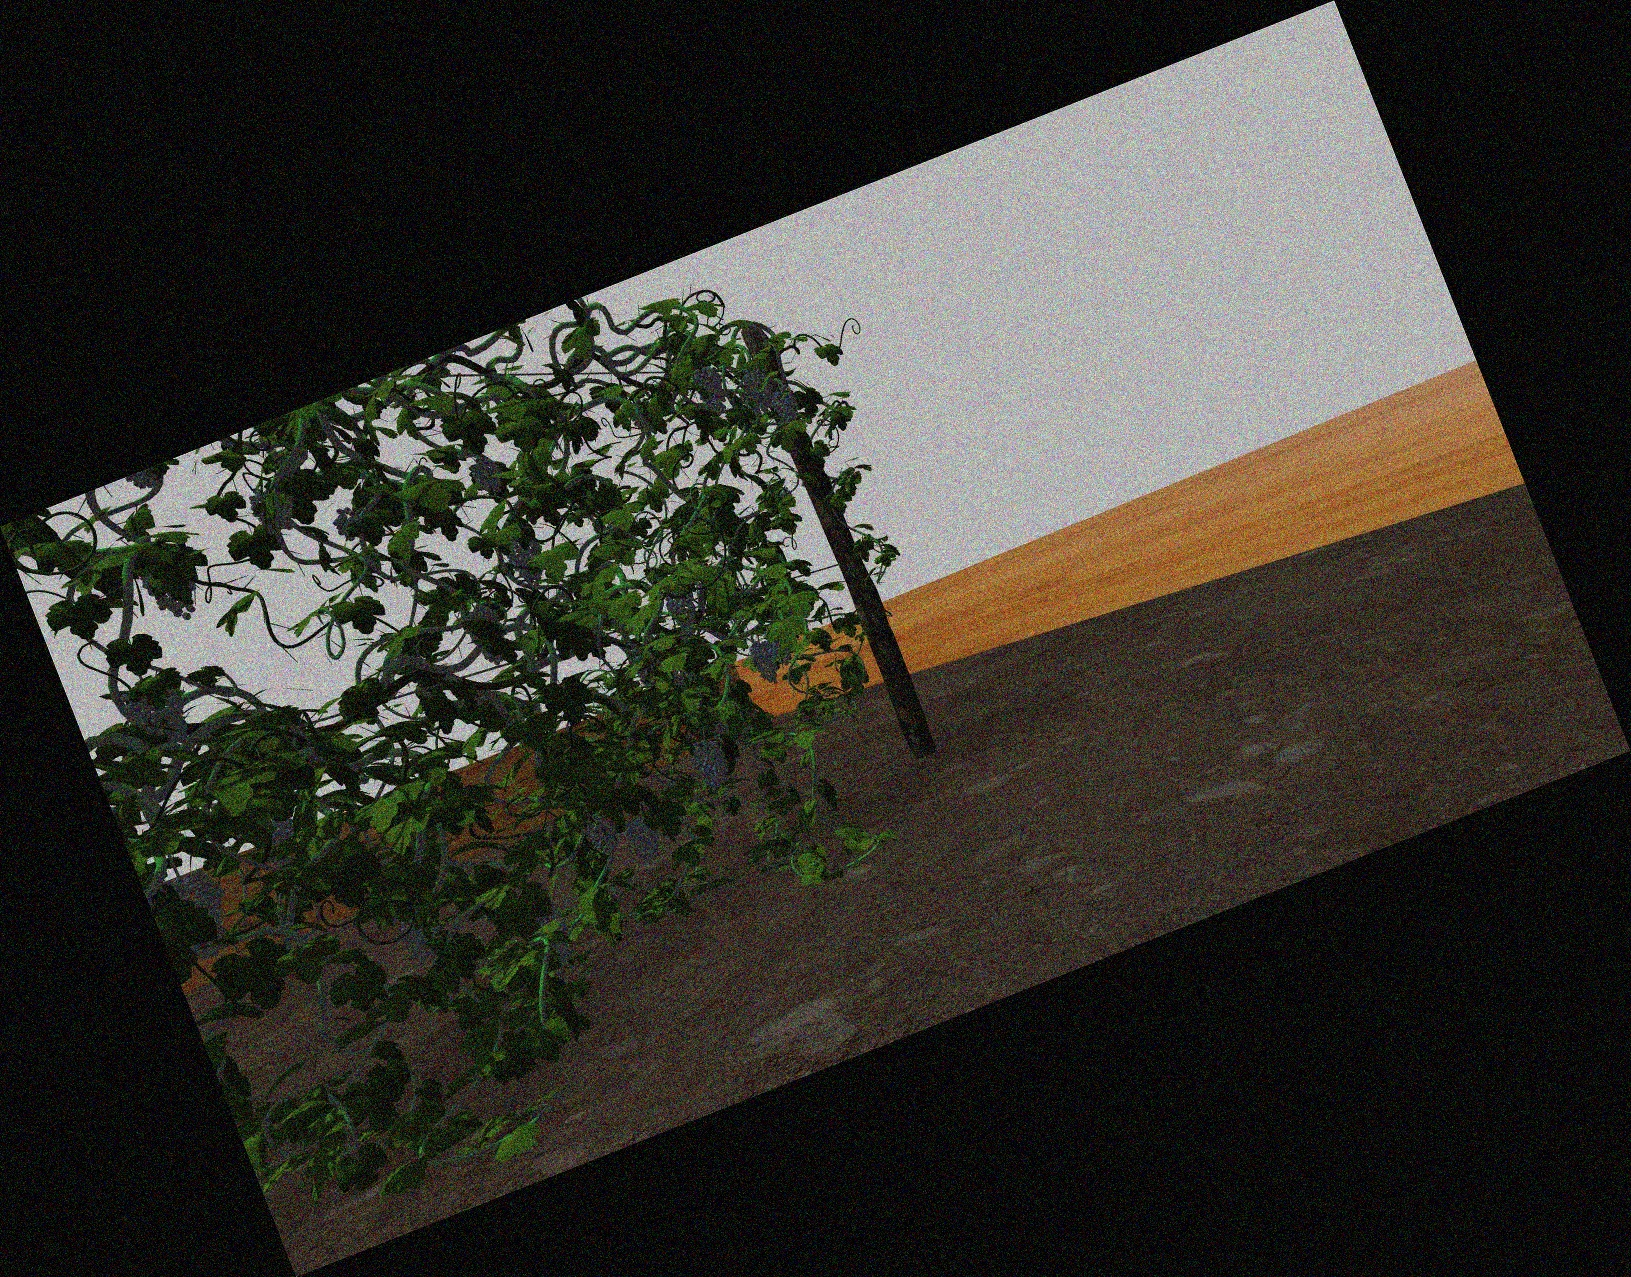grape: (180, 873, 229, 955), (132, 685, 189, 745), (254, 488, 294, 532), (512, 536, 545, 588), (404, 917, 441, 961), (696, 738, 725, 791), (696, 364, 724, 416), (588, 814, 618, 860), (545, 914, 572, 966), (630, 819, 659, 865), (669, 588, 696, 633), (755, 640, 782, 685), (474, 454, 500, 494), (335, 506, 365, 540), (748, 369, 772, 410), (776, 392, 798, 425)
